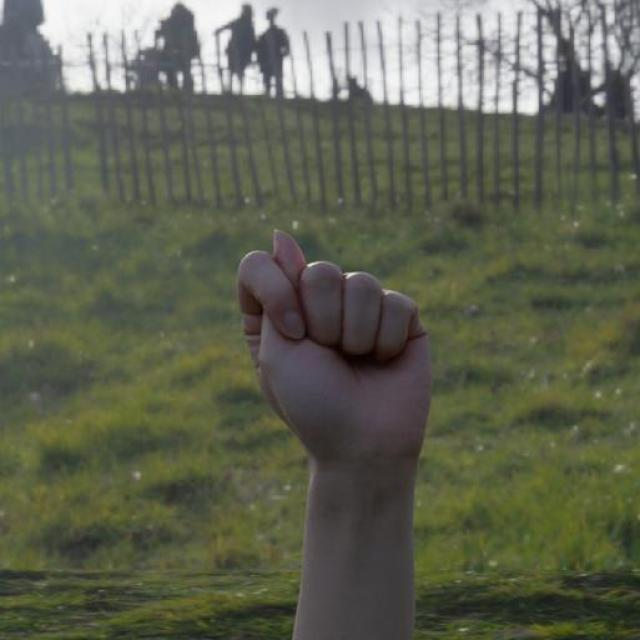T: (231, 224, 440, 461)
